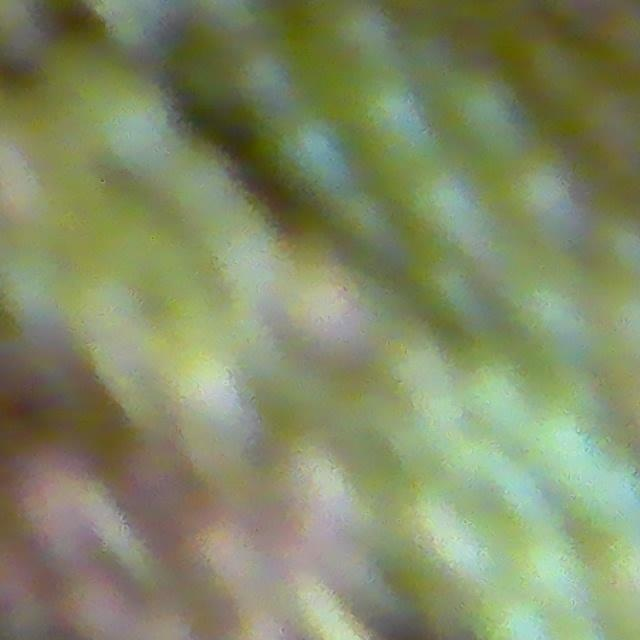SeaGrape: (59, 56, 185, 186), (504, 248, 602, 357), (265, 101, 363, 205), (399, 153, 499, 252), (503, 521, 597, 619), (347, 69, 436, 169), (451, 336, 540, 435), (438, 62, 528, 155), (498, 148, 585, 241), (412, 253, 485, 329), (321, 0, 395, 64), (334, 189, 397, 253)
